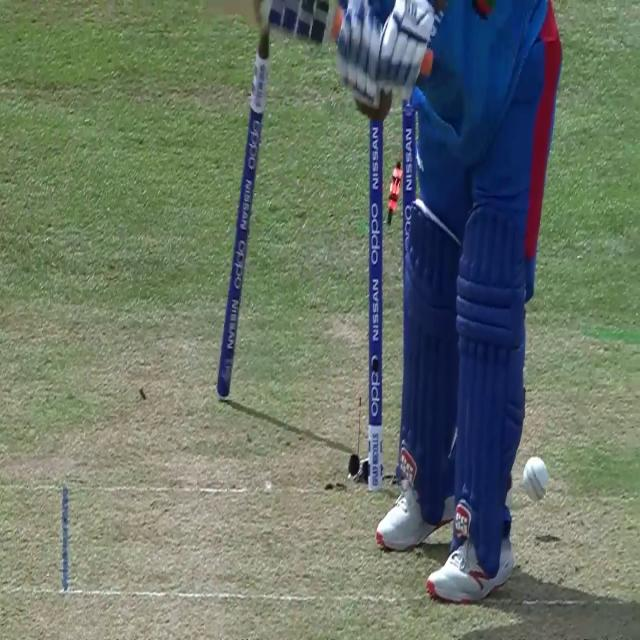ball: (521, 453, 550, 505)
